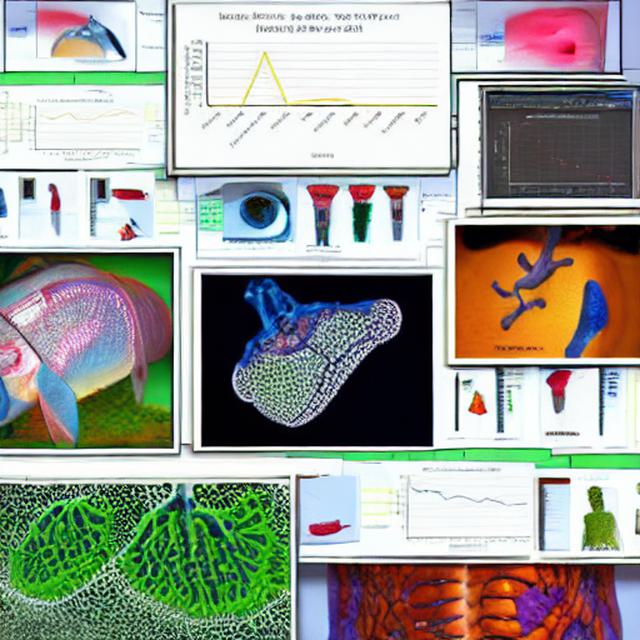Graph: (177, 10, 441, 164), (391, 466, 534, 552), (492, 112, 633, 198), (20, 96, 141, 162)
